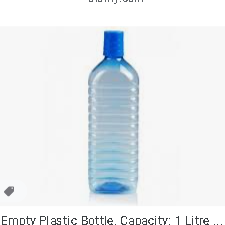Bottle: (86, 28, 140, 194)
